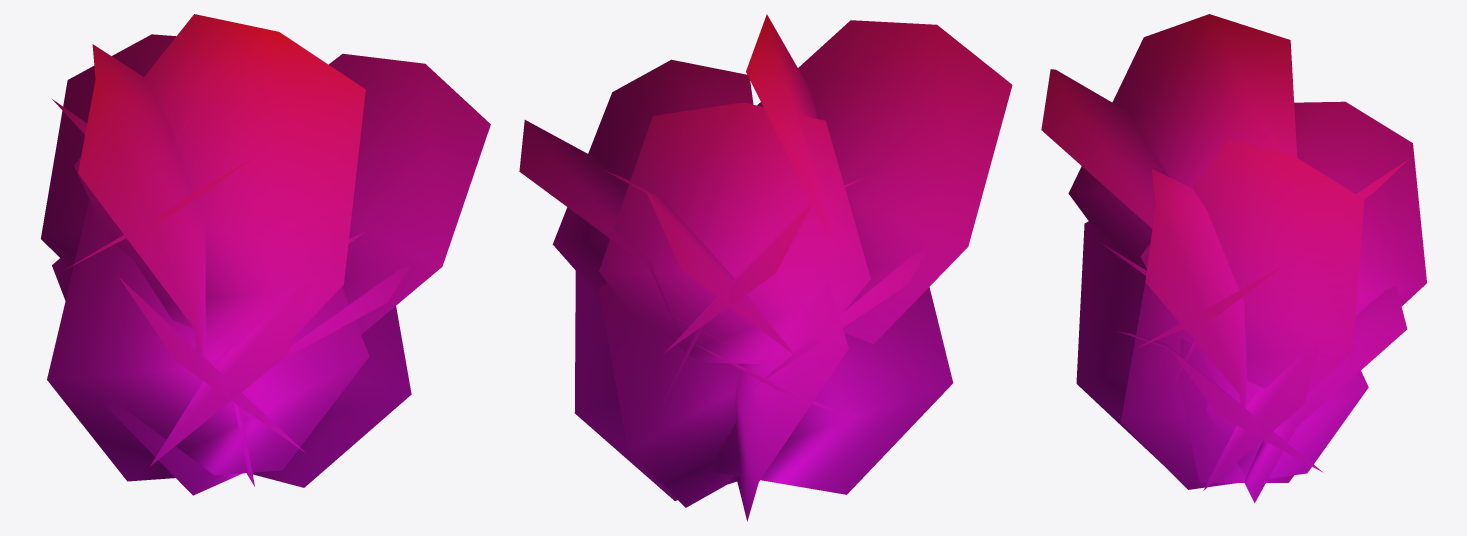
The model's file is SM_Plant_Bush_Leaves_01.gltf.
3 views of the same model, side by side, from view 1: azimuth 30°, elevation 25°; view 2: azimuth 150°, elevation 25°; view 3: azimuth 270°, elevation 25° (orthographic). The views are drawn at different scales.
Visible parts, largest first — view 1: SM_Plant_Bush_Leaves_01; view 2: SM_Plant_Bush_Leaves_01; view 3: SM_Plant_Bush_Leaves_01.
Boxes of the visible parts, x1,y1,x2,y2 form: SM_Plant_Bush_Leaves_01: (41, 14, 490, 495); SM_Plant_Bush_Leaves_01: (519, 14, 1012, 521); SM_Plant_Bush_Leaves_01: (1041, 14, 1426, 502).
Bounding box in the file's own units: 1.15 × 1.17 × 1.02.
